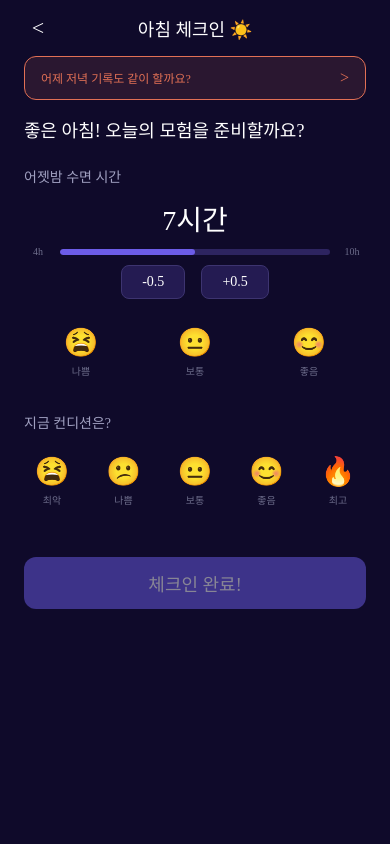
Test: CheckinScreen › morning rendering (04:00-13:59) › increments sleep hours with +0.5 button
Check: the text "7시간" is shown, box [162, 205, 228, 236]
What coordinates should you click on to do the following:
click the text "+0.5"
I would click on:
 (235, 282)
Its box is [222, 274, 248, 290].
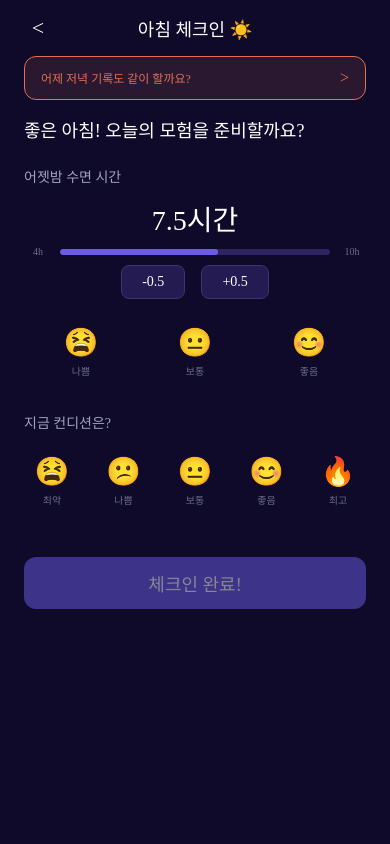
Check: the text "7.5시간" is shown, box [152, 205, 238, 236]
